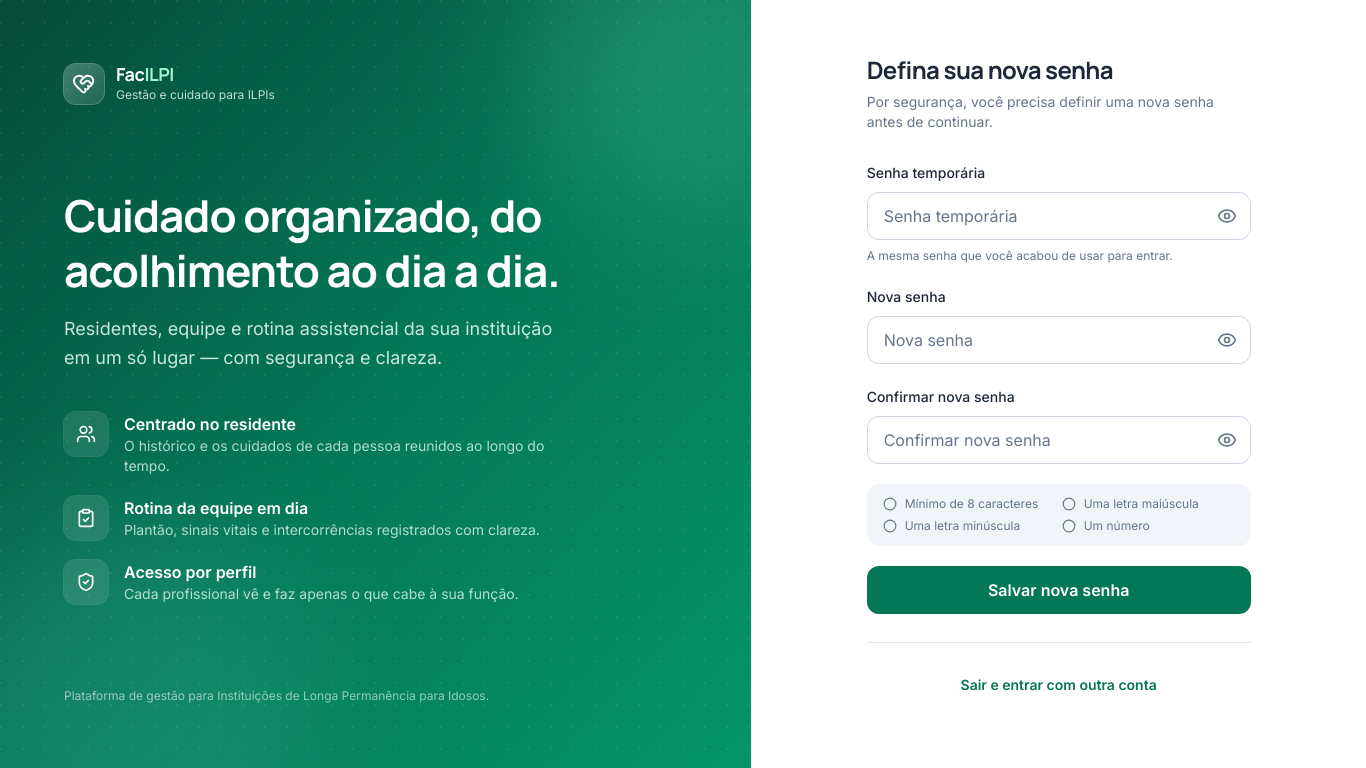
Test case: FirstAccess — troca obrigatória › 7. valida regras mínimas
Type "Temp1234" into the password field with placeholder "Senha temporária" at (1059, 216), box [867,192,1251,240]
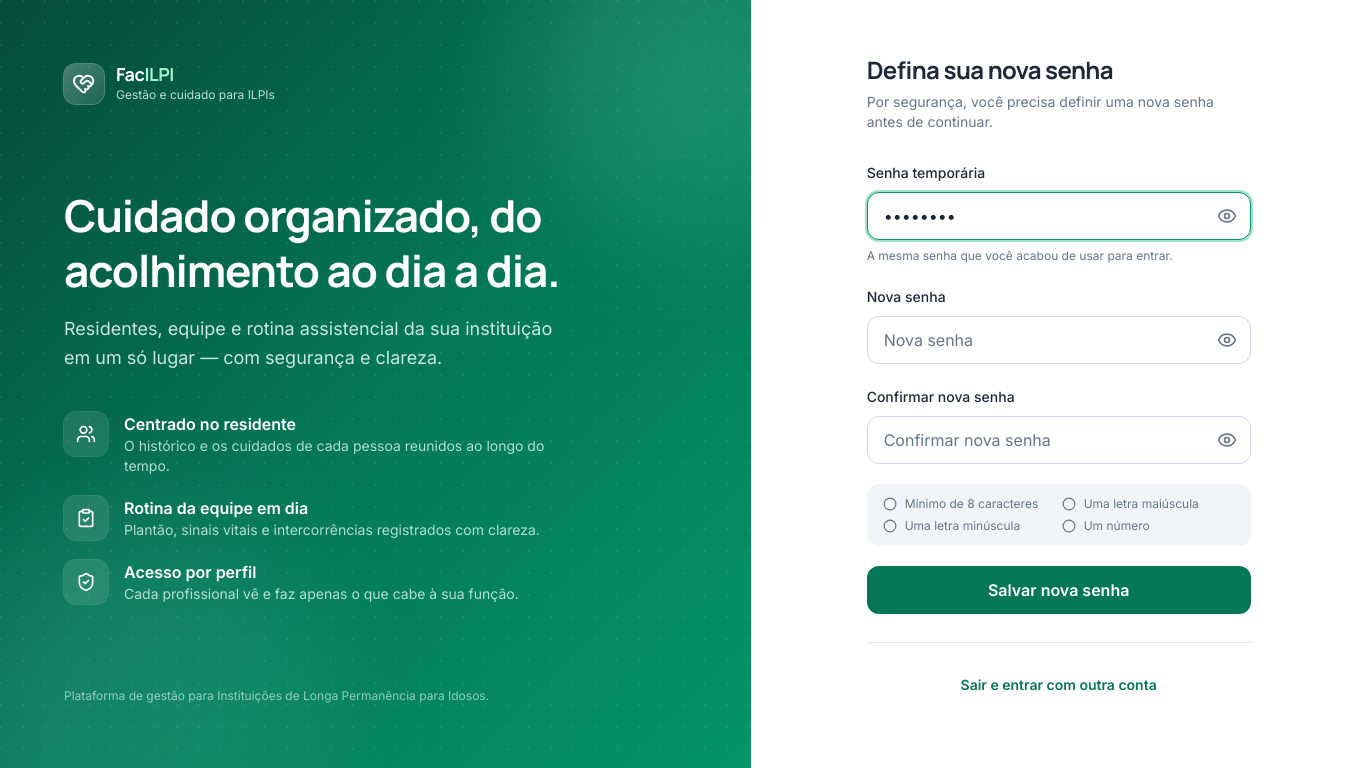
Type "curta" into the password field with placeholder "Nova senha" at (1059, 340), box [867,316,1251,364]
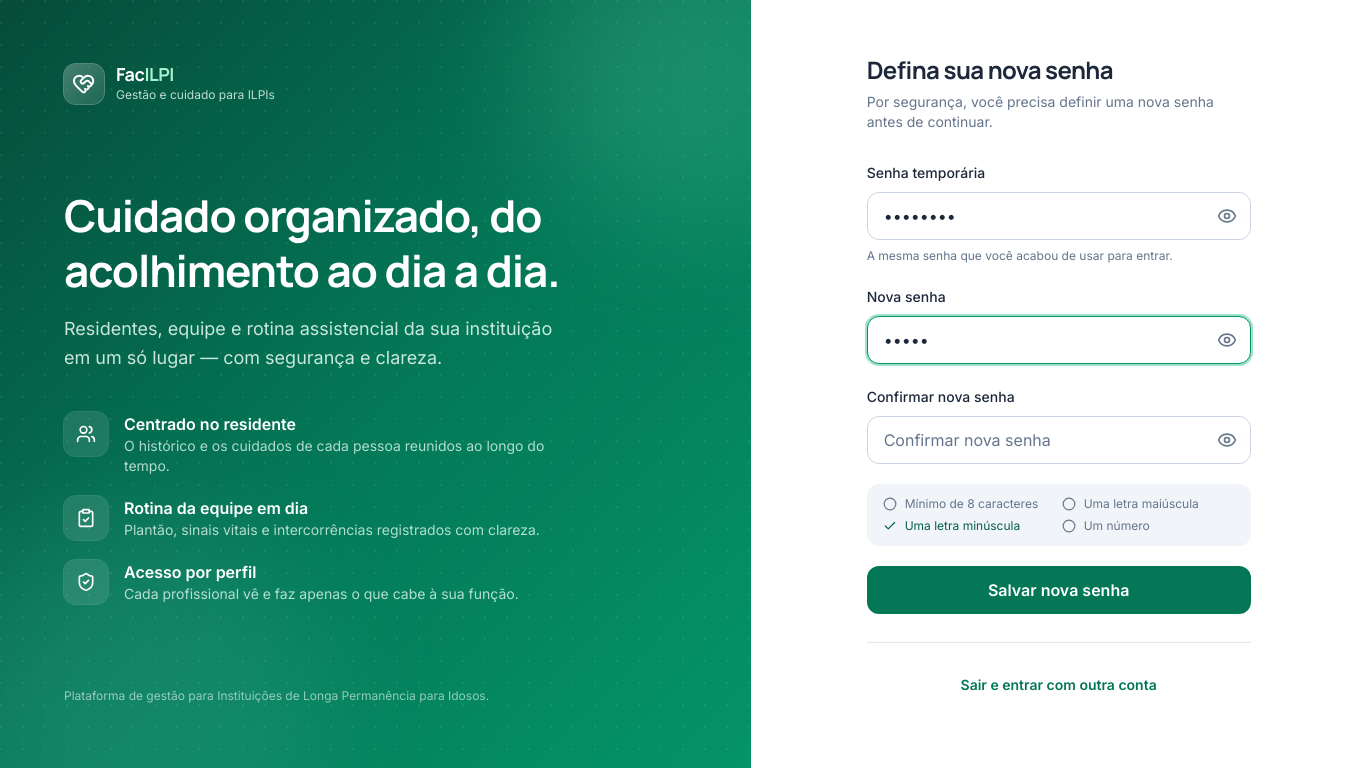
Type "curta" into the password field with placeholder "Confirmar nova senha" at (1059, 440), box [867,416,1251,464]
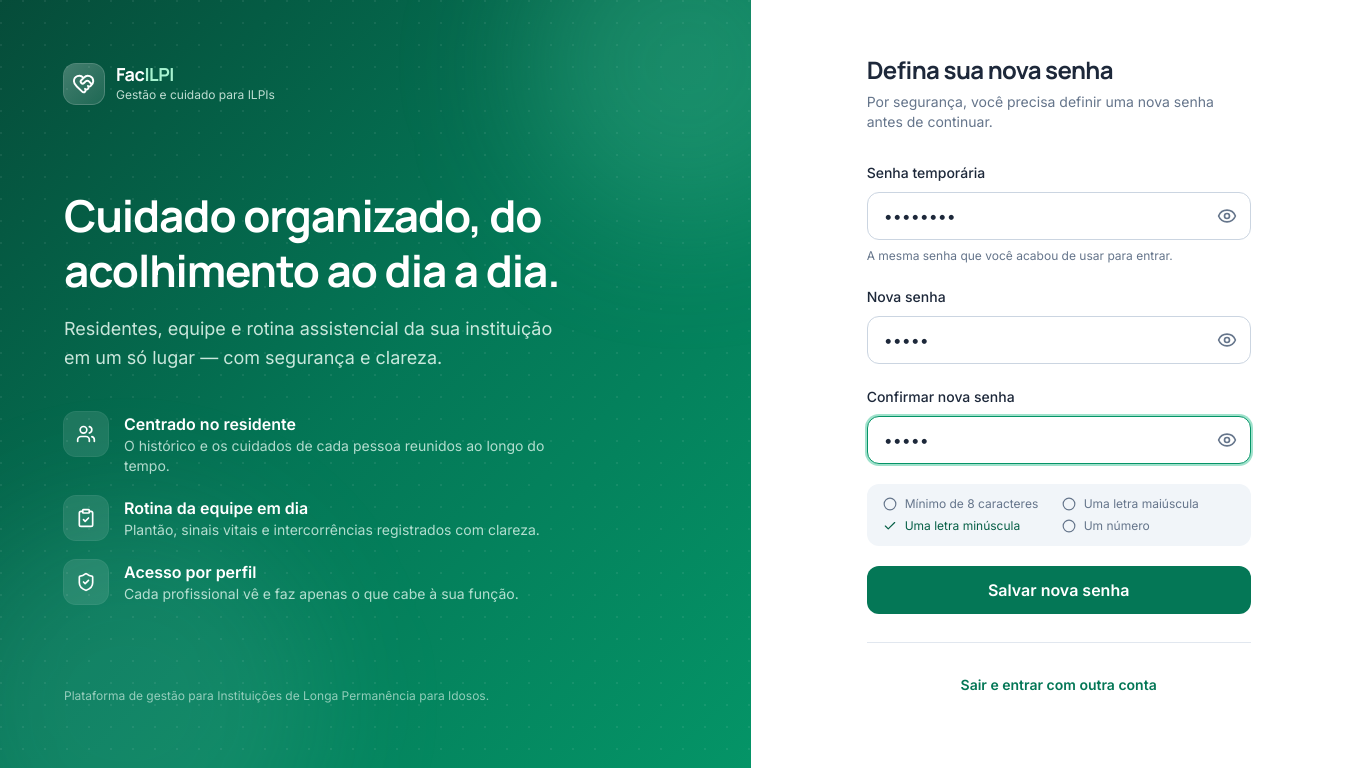
Click the button "Salvar nova senha" at (1059, 590), box [867,566,1251,614]
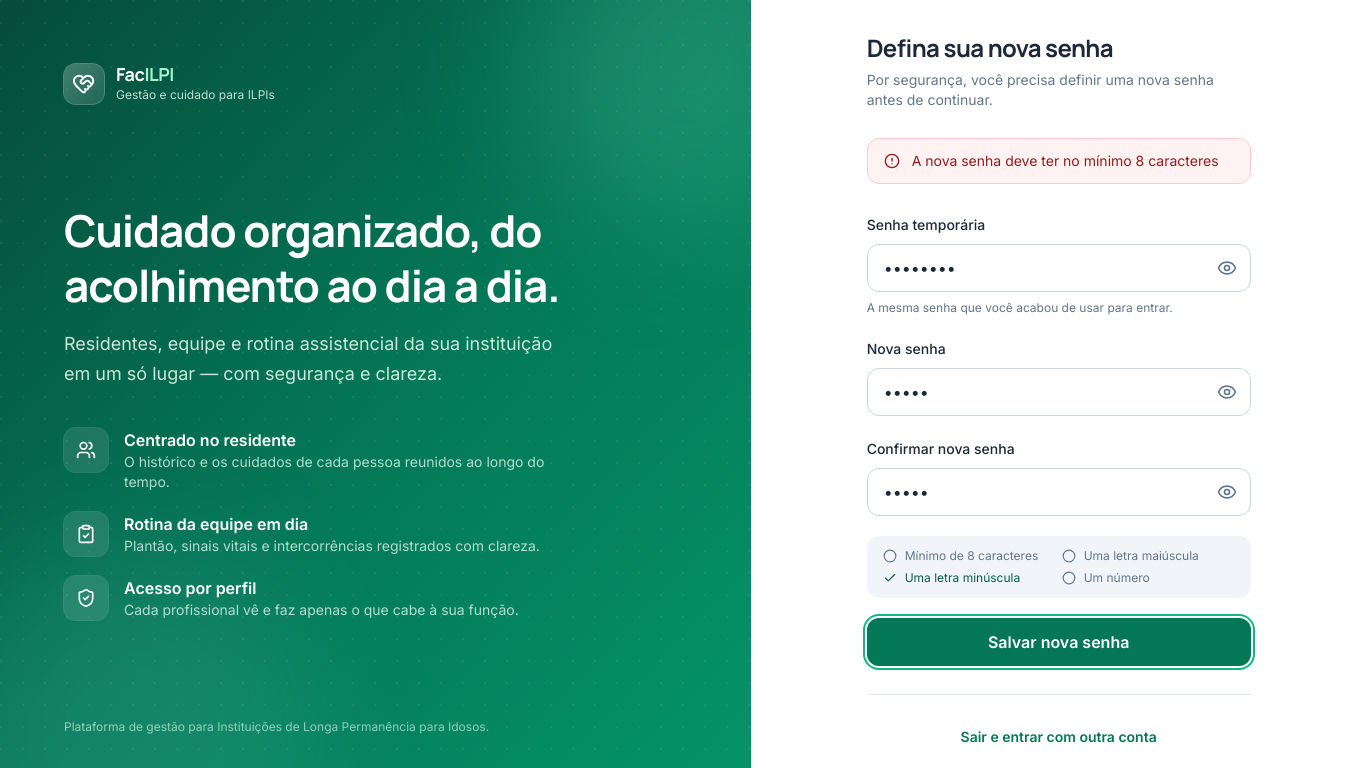
Expected: the text "A nova senha deve ter no mínimo 8 caracteres" is shown, [912,151,1218,171]
